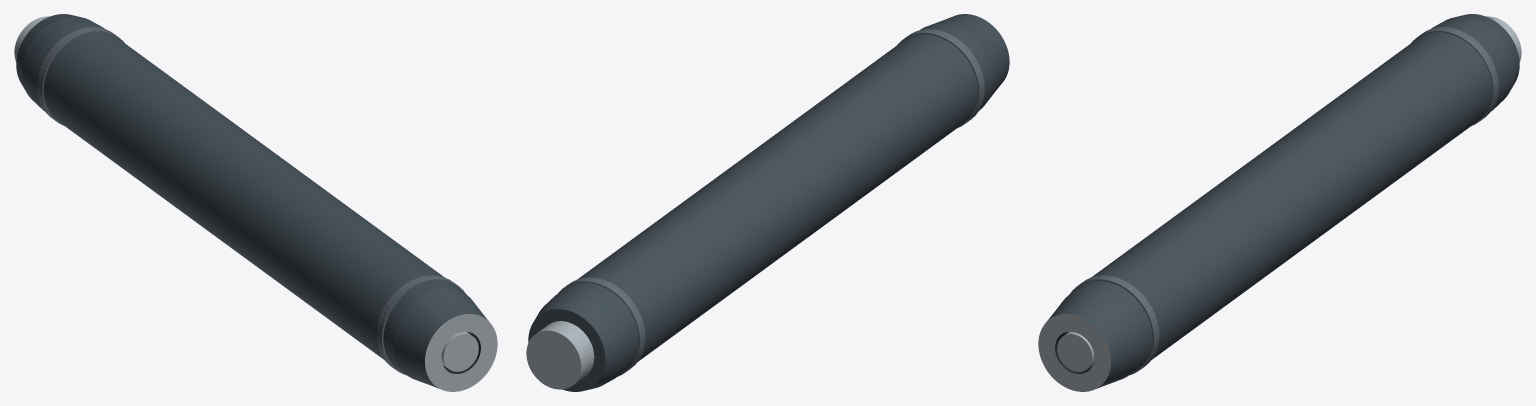
The model's file is Mechanics.obj.
The picture shows the model from 3 angles, left to right: view 1: azimuth 30°, elevation 25°; view 2: azimuth 150°, elevation 25°; view 3: azimuth 330°, elevation 25°; orthographic projection.
Visible parts, largest first — view 1: FSJointCase, FSJointRod; view 2: FSJointCase, FSJointTip; view 3: FSJointCase, FSJointRod.
Part boxes in pixels (left/top/right/bottom): FSJointCase: left=16, top=14, right=497, bottom=391; FSJointRod: left=441, top=331, right=478, bottom=371; FSJointCase: left=528, top=14, right=1009, bottom=391; FSJointTip: left=526, top=321, right=594, bottom=389; FSJointCase: left=1038, top=14, right=1519, bottom=391; FSJointRod: left=1057, top=331, right=1094, bottom=371.
Size of the model in its own units: 0.1292 by 0.1292 by 1.03.
